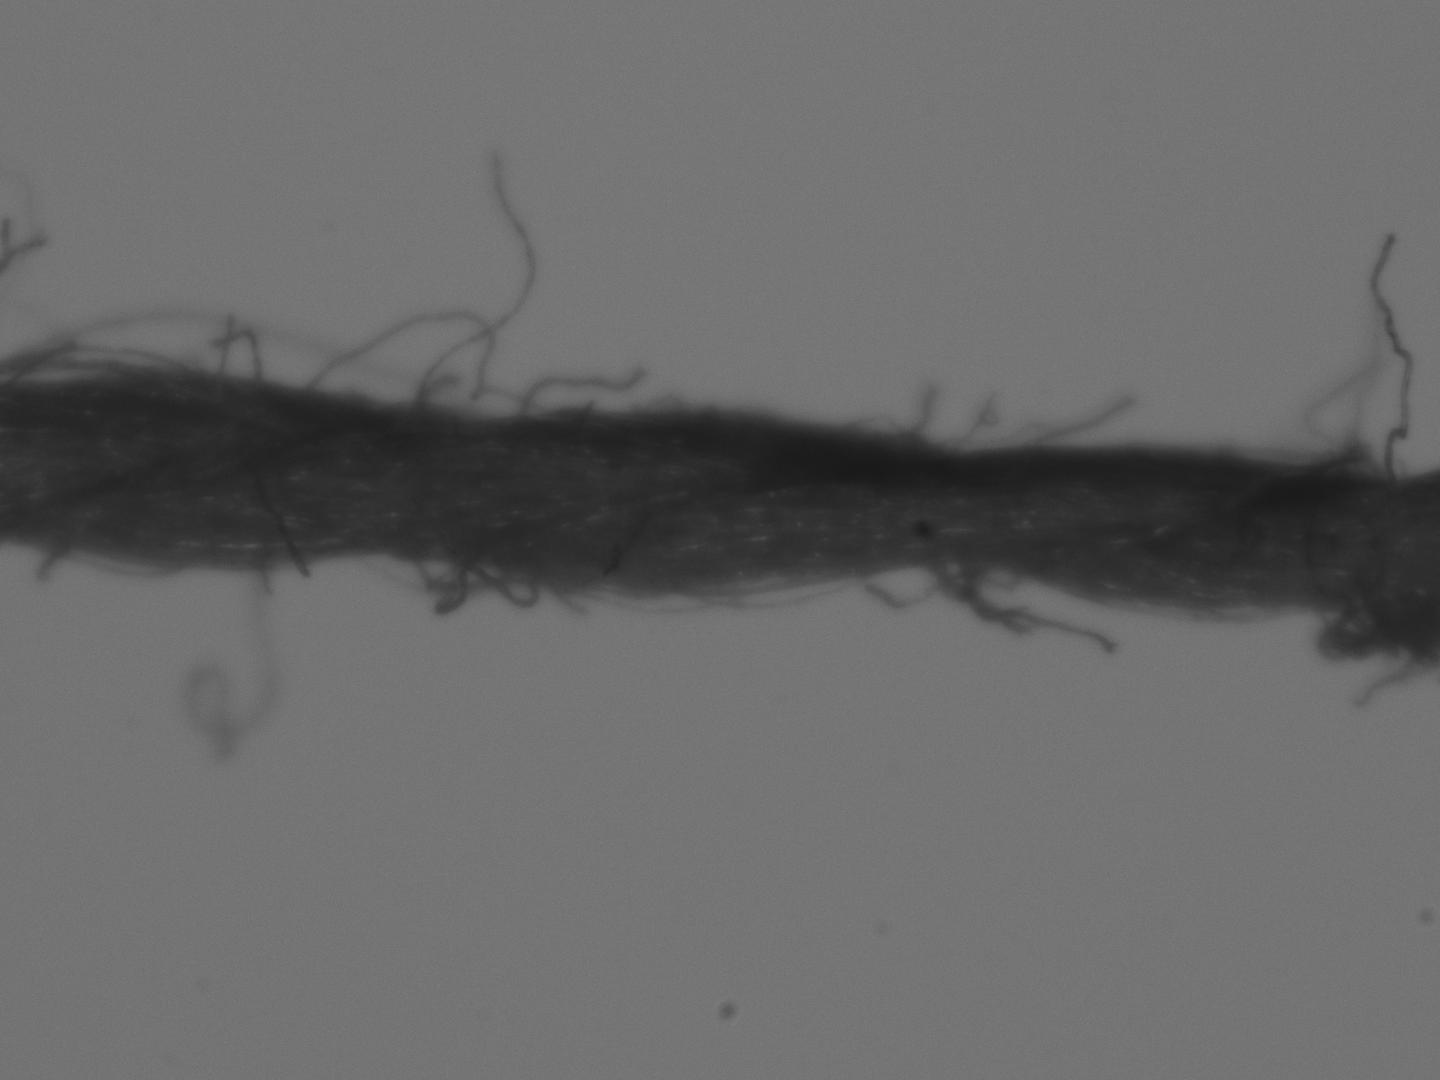loop_fiber: (19, 307, 469, 410), (298, 307, 548, 416), (850, 562, 1028, 611), (404, 564, 550, 616), (1316, 606, 1394, 657)
protruding_fiber: (412, 146, 540, 407), (929, 558, 1123, 661), (180, 565, 285, 750), (1366, 231, 1417, 486), (1005, 393, 1134, 456), (514, 358, 651, 417), (200, 330, 265, 387), (1356, 653, 1424, 706)
